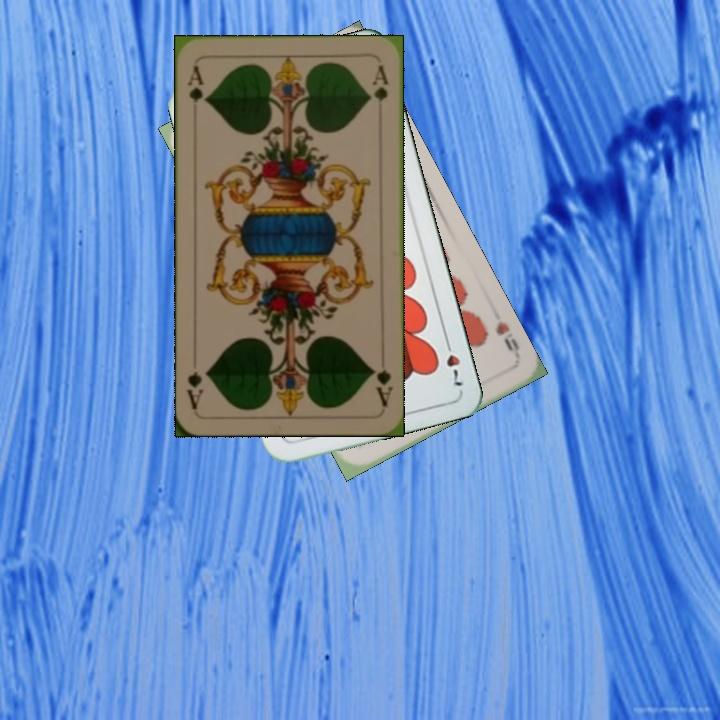GA: (184, 62, 209, 120), (368, 364, 395, 409)
H7: (440, 333, 465, 389)
H9: (491, 317, 523, 360)
